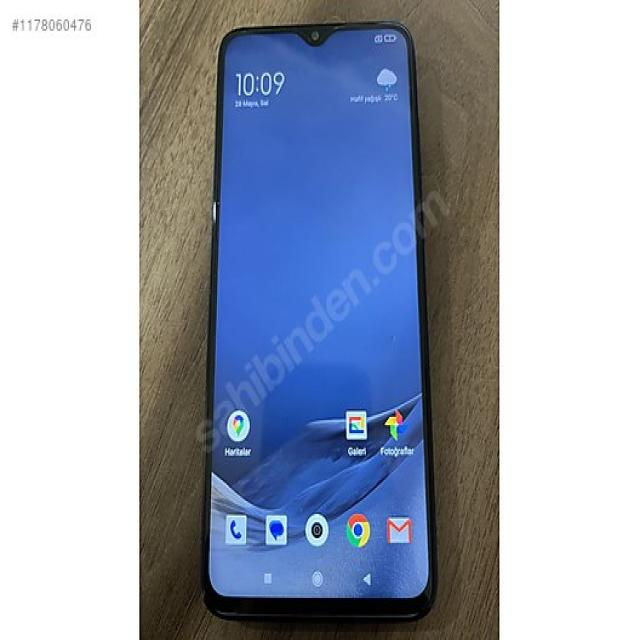Red Mi Note 8 Pro: (200, 21, 438, 625)
